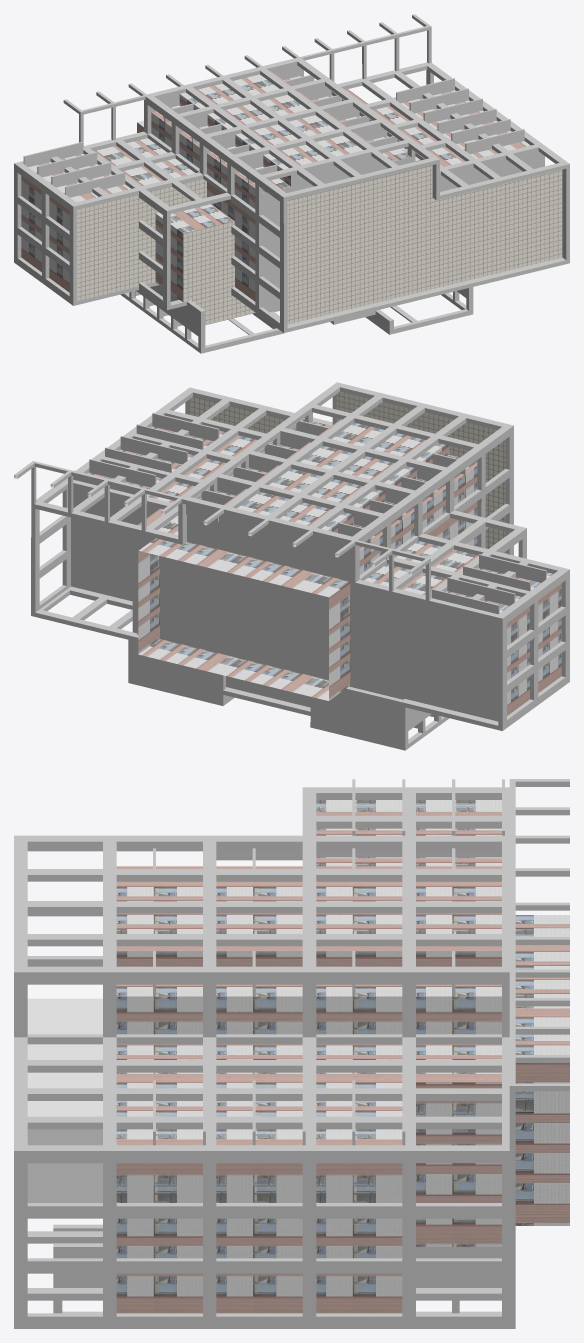
3 views of the same model, one above another, from view 1: azimuth 30°, elevation 25°; view 2: azimuth 150°, elevation 25°; view 3: azimuth 270°, elevation 25° (orthographic). The views are drawn at different scales.
Visible parts, largest first — view 1: 教师宿舍 2 .2, 教师宿舍 2 .3顶, 教师宿舍 2 .9, 教师宿舍 2 .8, 教师宿舍 2 .1, 教师宿舍 2 .5, 教师宿舍 2 .7, 教师宿舍 2 .6; view 2: 教师宿舍 2 .2, 教师宿舍 2 .9, 教师宿舍 2 .8, 教师宿舍 2 .1, 教师宿舍 2 .6, 教师宿舍 2 .3顶, 教师宿舍 2 .5, 教师宿舍 2 .7; view 3: 教师宿舍 2 .2, 教师宿舍 2 .8, 教师宿舍 2 .9, 教师宿舍 2 .4, 教师宿舍 2 .5, 教师宿舍 2 .7, 教师宿舍 2 .1.
Part boxes in pixels (x1,y1,x2,y2): 教师宿舍 2 .2: (21,71,541,324); 教师宿舍 2 .3顶: (287,165,562,324); 教师宿舍 2 .9: (14,57,569,332); 教师宿舍 2 .8: (17,60,565,329); 教师宿舍 2 .1: (23,65,524,326); 教师宿舍 2 .5: (63,14,431,147); 教师宿舍 2 .7: (120,285,466,351); 教师宿舍 2 .6: (198,287,473,353); 教师宿舍 2 .2: (71,419,561,721); 教师宿舍 2 .9: (31,382,569,730); 教师宿舍 2 .8: (36,385,565,727); 教师宿舍 2 .1: (73,412,546,728); 教师宿舍 2 .6: (128,633,408,750); 教师宿舍 2 .3顶: (189,391,505,552); 教师宿舍 2 .5: (14,461,430,600); 教师宿舍 2 .7: (131,632,449,748); 教师宿舍 2 .2: (116,800,569,1313); 教师宿舍 2 .8: (27,787,501,1328); 教师宿舍 2 .9: (14,787,515,1328); 教师宿舍 2 .4: (27,998,102,1202); 教师宿舍 2 .5: (509,779,569,1150); 教师宿舍 2 .7: (62,1224,501,1313); 教师宿舍 2 .1: (153,779,504,1145).
Bounding box in the file's own units: 57 × 22.77 × 36.8.
4 materials, 2 textured.
